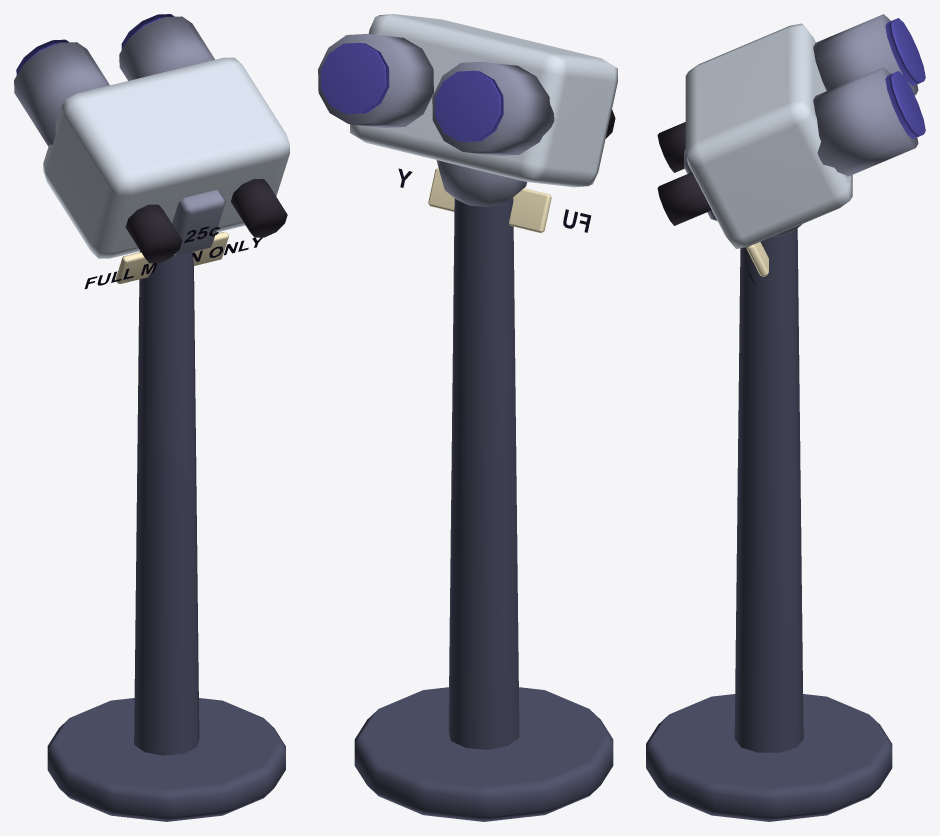
Rendered from binoculars.glb.
3 renders of one model, left to right at view 1: azimuth 30°, elevation 25°; view 2: azimuth 150°, elevation 25°; view 3: azimuth 270°, elevation 25°, orthographic. The views are drawn at different scales.
Visible parts, largest first — view 1: Viewer; view 2: Viewer; view 3: Viewer.
Boxes of the visible parts, left/top/right/bottom form: Viewer: left=14, top=14, right=289, bottom=821; Viewer: left=318, top=14, right=617, bottom=821; Viewer: left=646, top=14, right=925, bottom=821.
Bounding box in the file's own units: 0.3922 × 1.28 × 0.4459.
